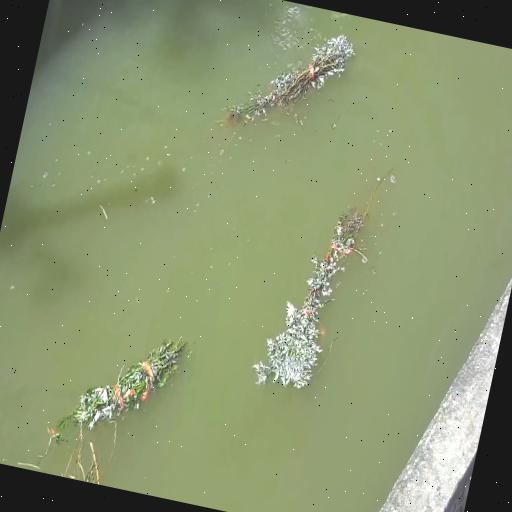twig: (253, 165, 393, 388), (52, 337, 185, 476), (226, 35, 354, 121), (63, 429, 100, 484)
